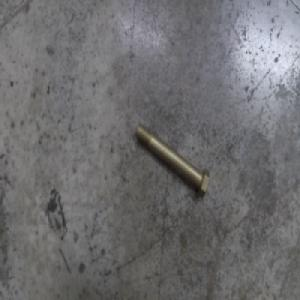Bolt: (135, 121, 210, 200)
